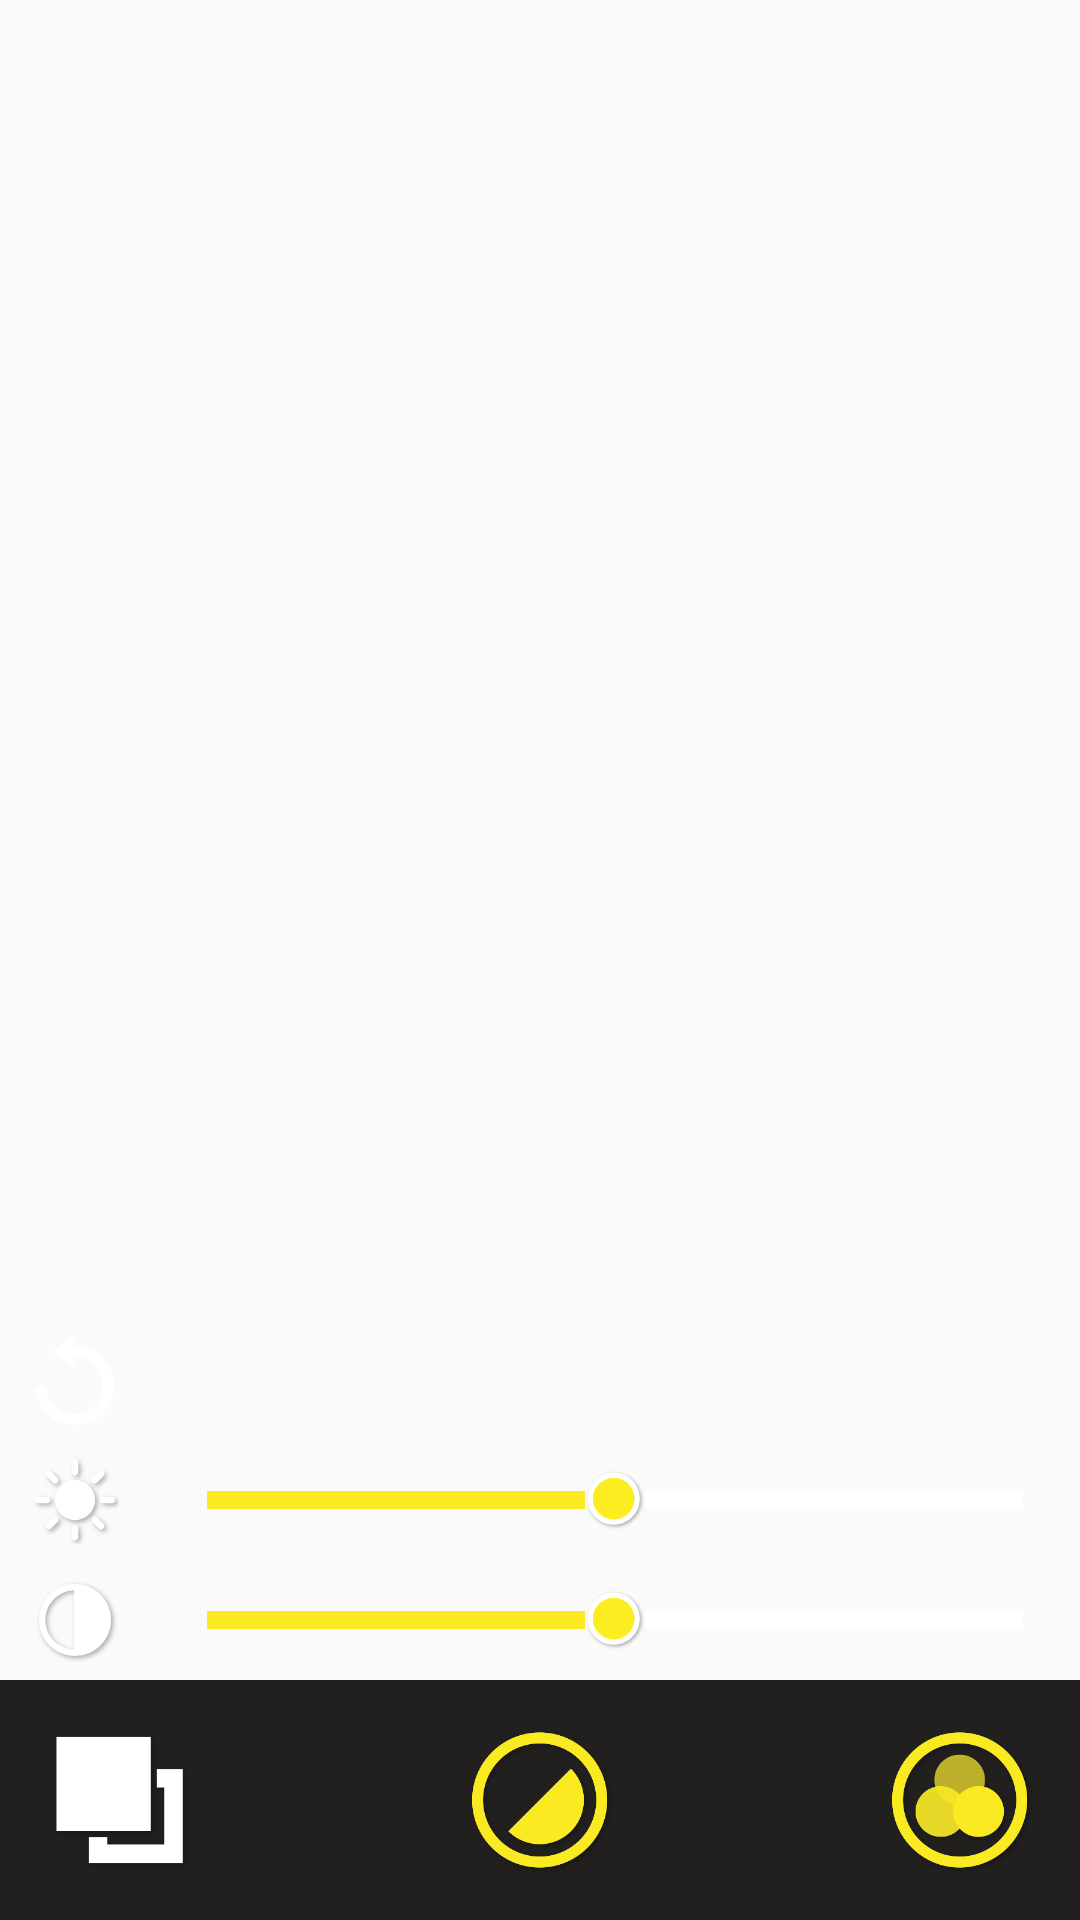

Icon click points for this 1080×1920 phone screenshot, format [x,y]:
bright: [78,1503]
contrast: [79,1624]
